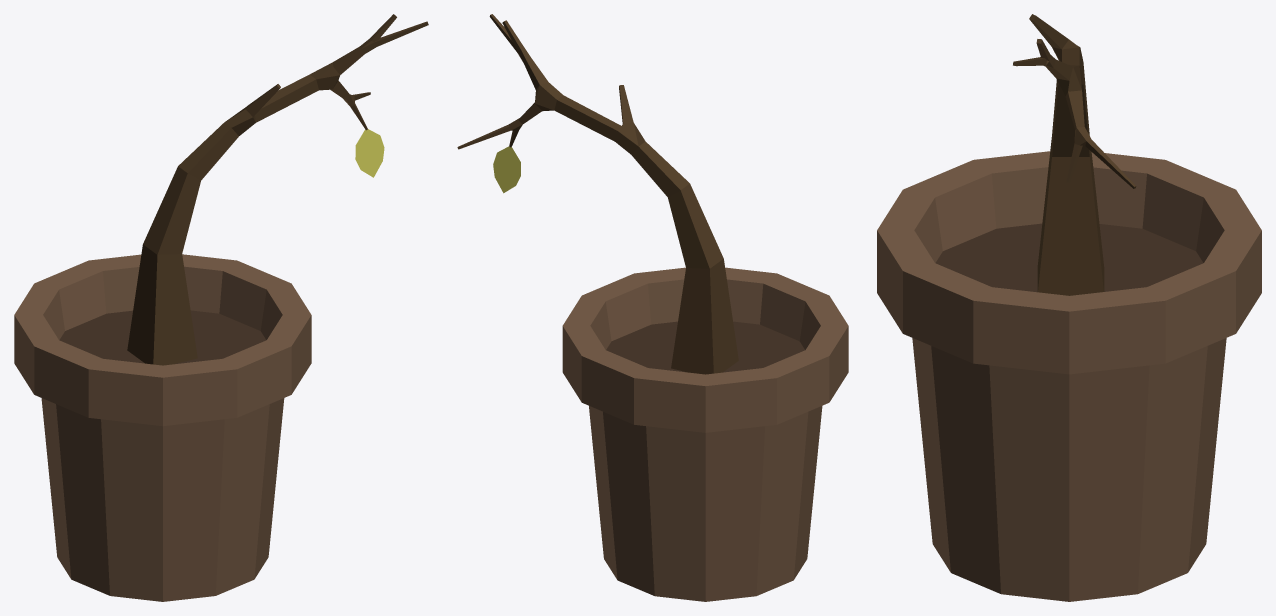
Rendered from Dead plant.fbx.
The picture shows the model from 3 angles, left to right: view 1: azimuth 30°, elevation 25°; view 2: azimuth 150°, elevation 25°; view 3: azimuth 270°, elevation 25°; orthographic projection. The views are drawn at different scales.
Visible parts, largest first — view 1: Dead plant; view 2: Dead plant; view 3: Dead plant.
Part boxes in pixels (x1=…): Dead plant: x1=14, y1=14, x2=428, y2=601; Dead plant: x1=457, y1=14, x2=848, y2=601; Dead plant: x1=877, y1=14, x2=1261, y2=601.
Size of the model in its own units: 182 by 126 by 232.
